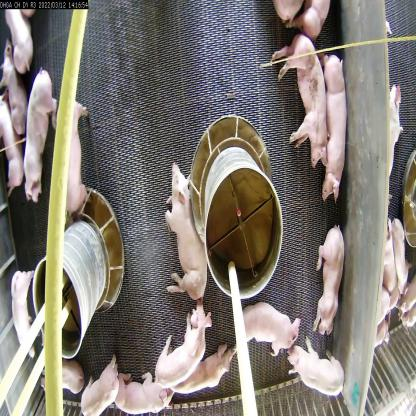Pig: (310, 56, 364, 224), (277, 30, 330, 171), (168, 167, 214, 306), (303, 228, 364, 331), (48, 93, 92, 222), (22, 70, 60, 205), (232, 278, 298, 352), (148, 304, 207, 378), (5, 264, 35, 374), (164, 346, 228, 396), (288, 333, 347, 384), (1, 44, 31, 138), (0, 7, 39, 79), (111, 372, 176, 415), (39, 351, 86, 402), (0, 103, 23, 205), (84, 355, 121, 415)
